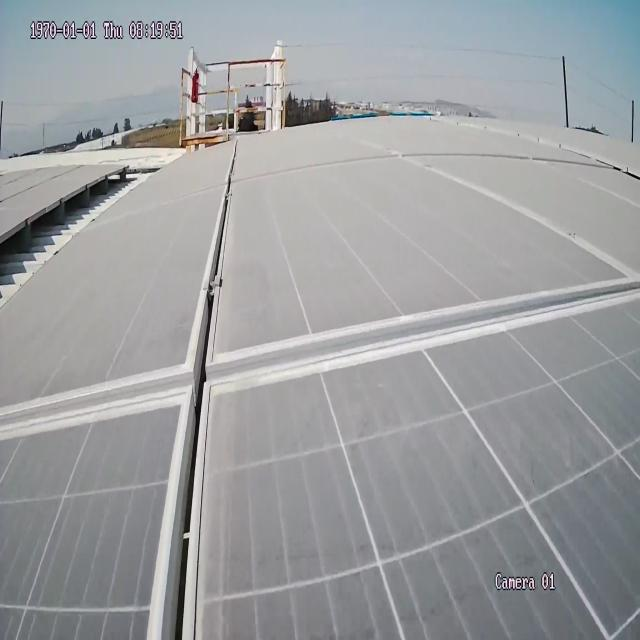interior panel: (4, 144, 640, 638)
outher panel: (0, 157, 181, 303)
